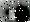person: (10, 7, 16, 20)
